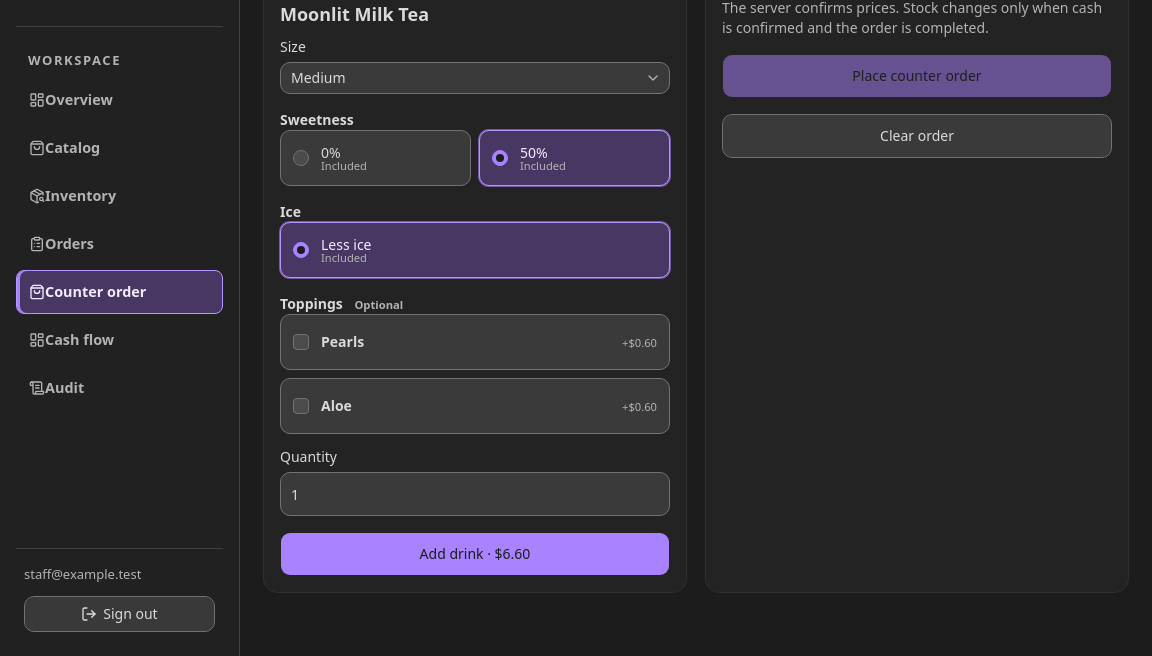
shows no payment due for a cancelled counter replay
(page scrolled)
Click the button "Add drink · $6.60" at (475, 554), box [280,532,670,576]
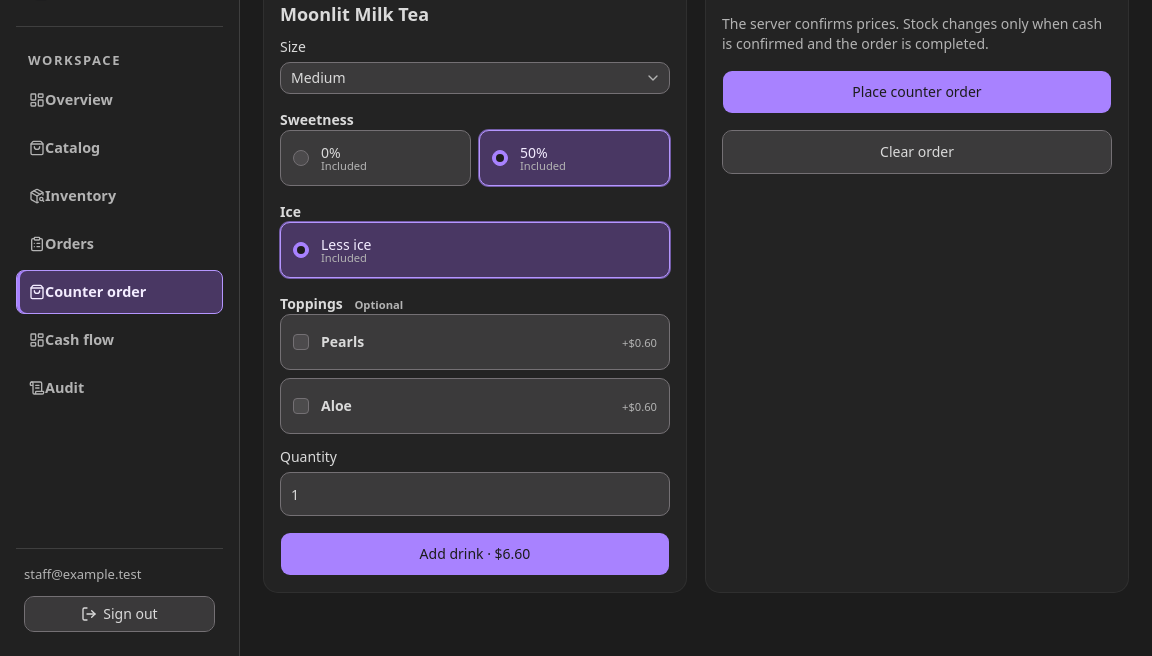
Click the button "Place counter order" at (917, 92), box [722,70,1112,114]
(page scrolled)
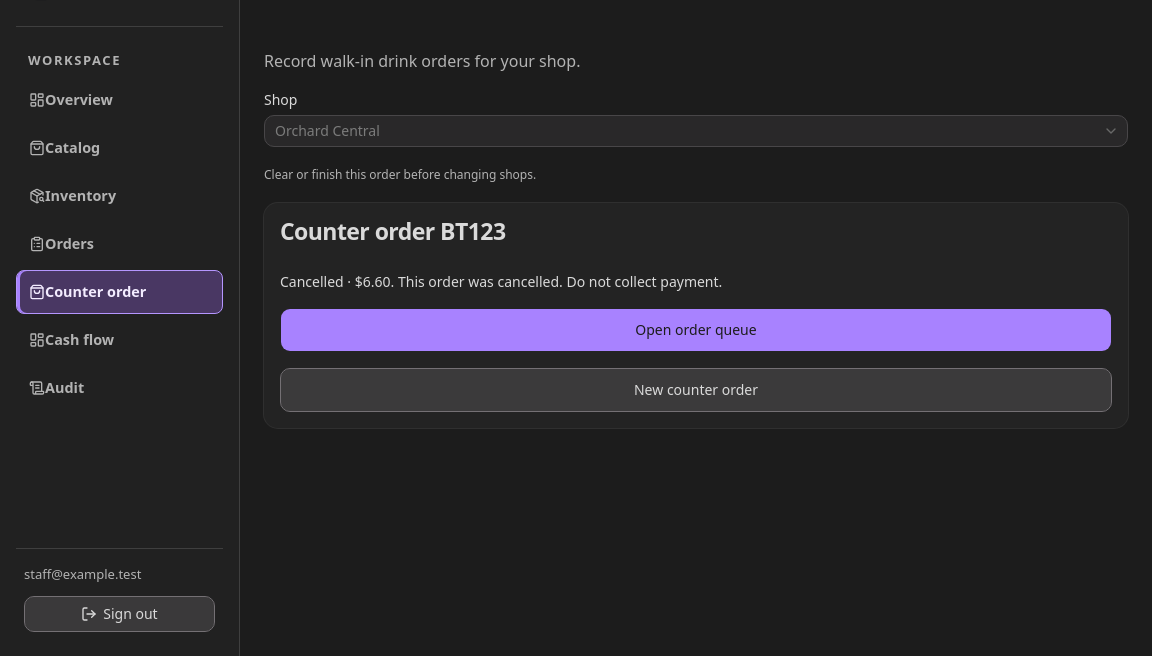
Result: the text "Cancelled · $6.60. This order was cancelled. Do not collect payment." is shown at [280,272,722,291]
